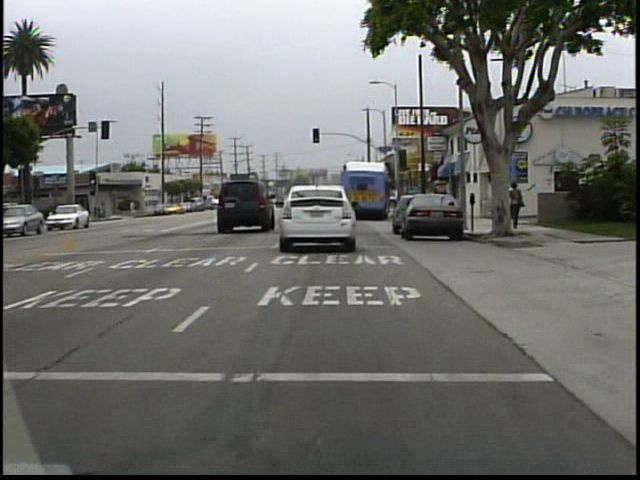person: (507, 178, 525, 231), (503, 178, 521, 229), (128, 197, 139, 219)
